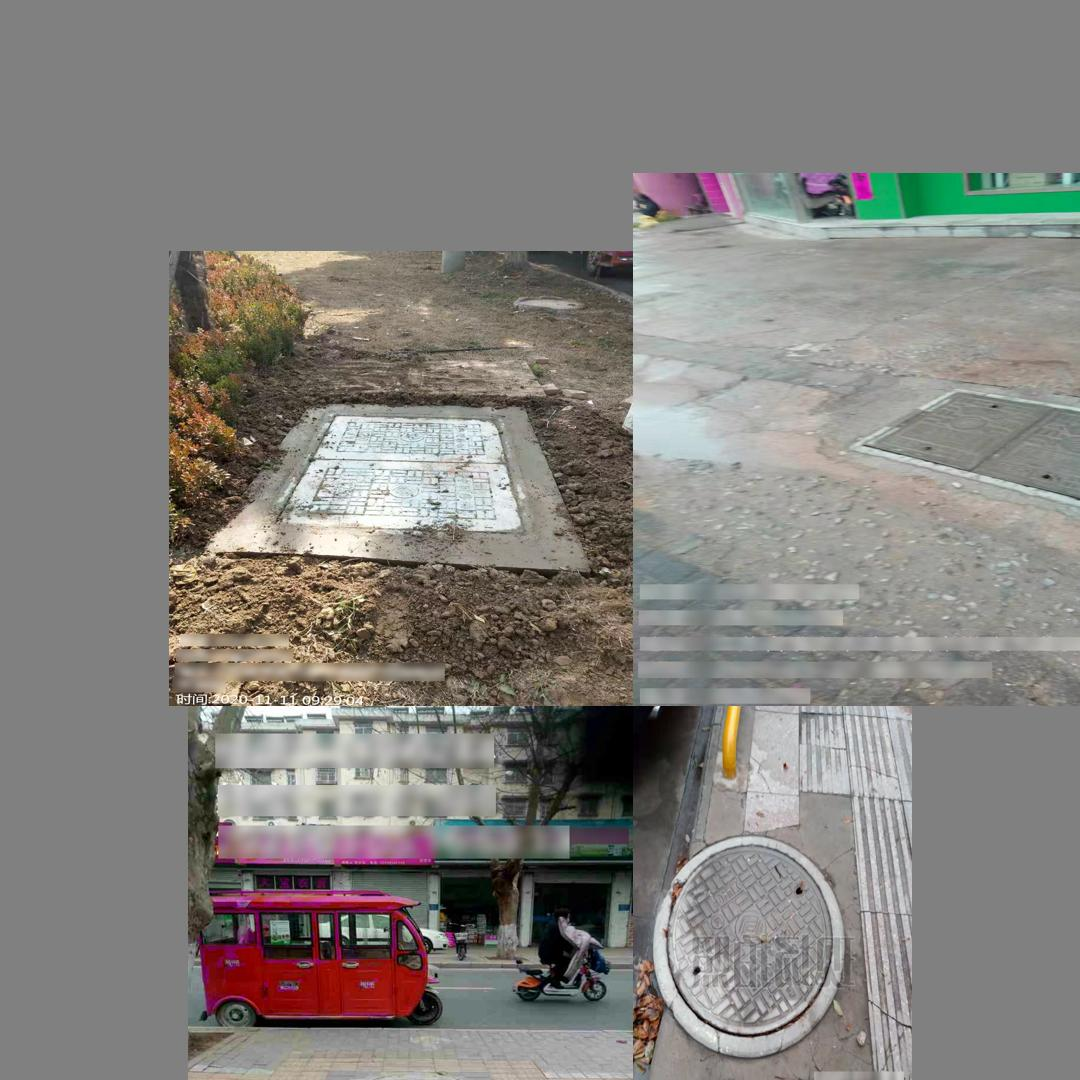good: (227, 395, 584, 554), (652, 834, 843, 1058), (848, 386, 1080, 516), (344, 1073, 476, 1080)
